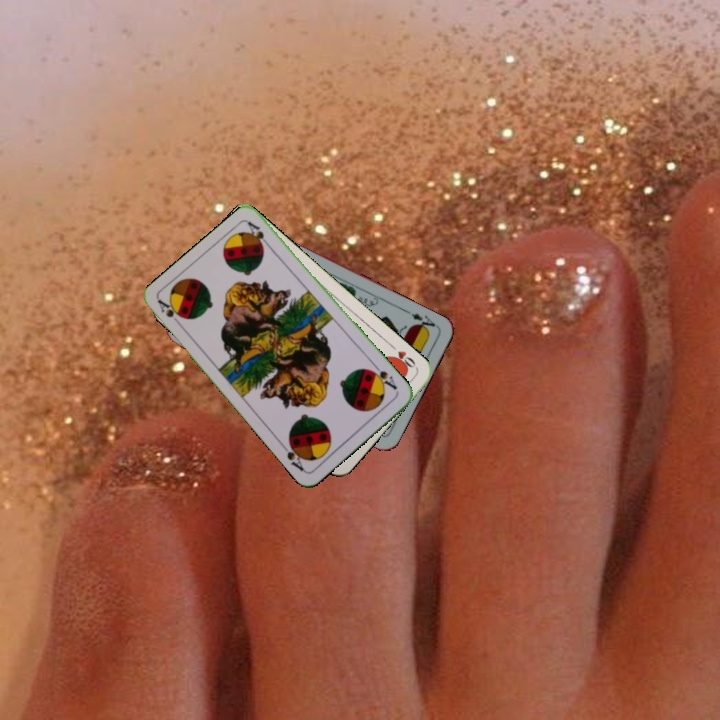EA: (407, 309, 440, 335)
HO: (386, 340, 419, 373)
SA: (154, 296, 187, 330), (365, 360, 400, 392)
